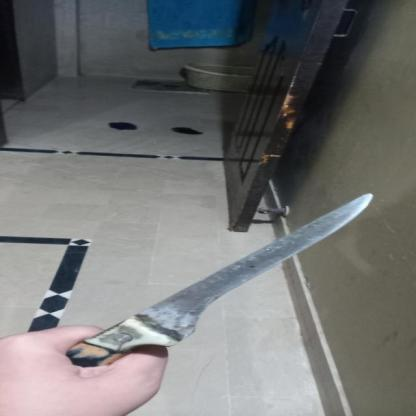Knife: (30, 190, 391, 376)
